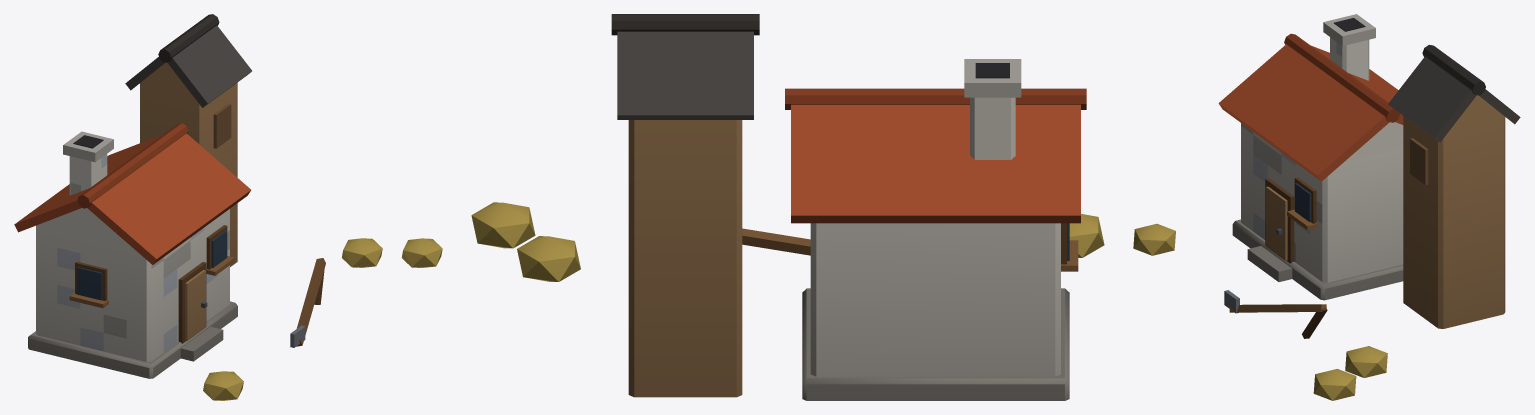
Rendered from building_8.glb.
3 views of the same model, side by side, from view 1: azimuth 30°, elevation 25°; view 2: azimuth 150°, elevation 25°; view 3: azimuth 270°, elevation 25° (orthographic). The views are drawn at different scales.
Visible parts, largest first — view 1: building_8; view 2: building_8; view 3: building_8.
Part boxes in pixels (x1=…): building_8: x1=14, y1=14, x2=442, y2=400; building_8: x1=471, y1=14, x2=1104, y2=400; building_8: x1=1133, y1=14, x2=1520, y2=400.
Bounding box in the file's own units: 1.28 × 0.7081 × 0.9994.
